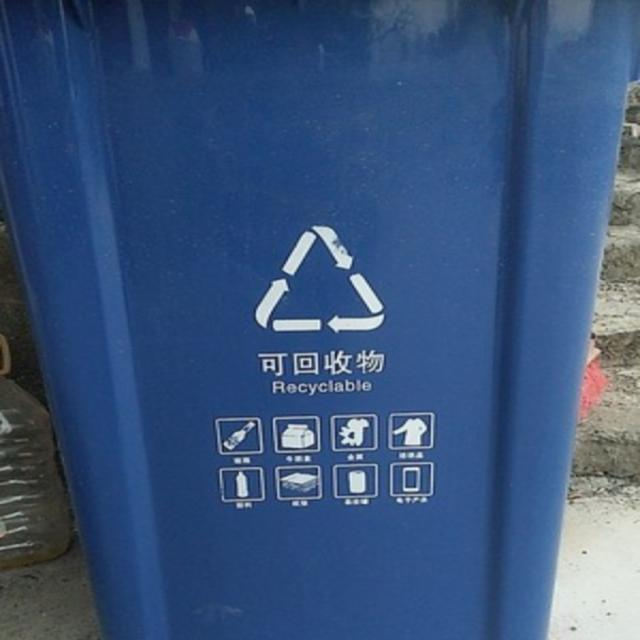ash bin: (0, 1, 638, 638)
